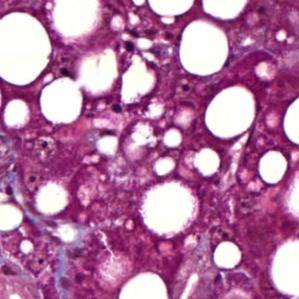steatosis: (177, 19, 231, 75)
